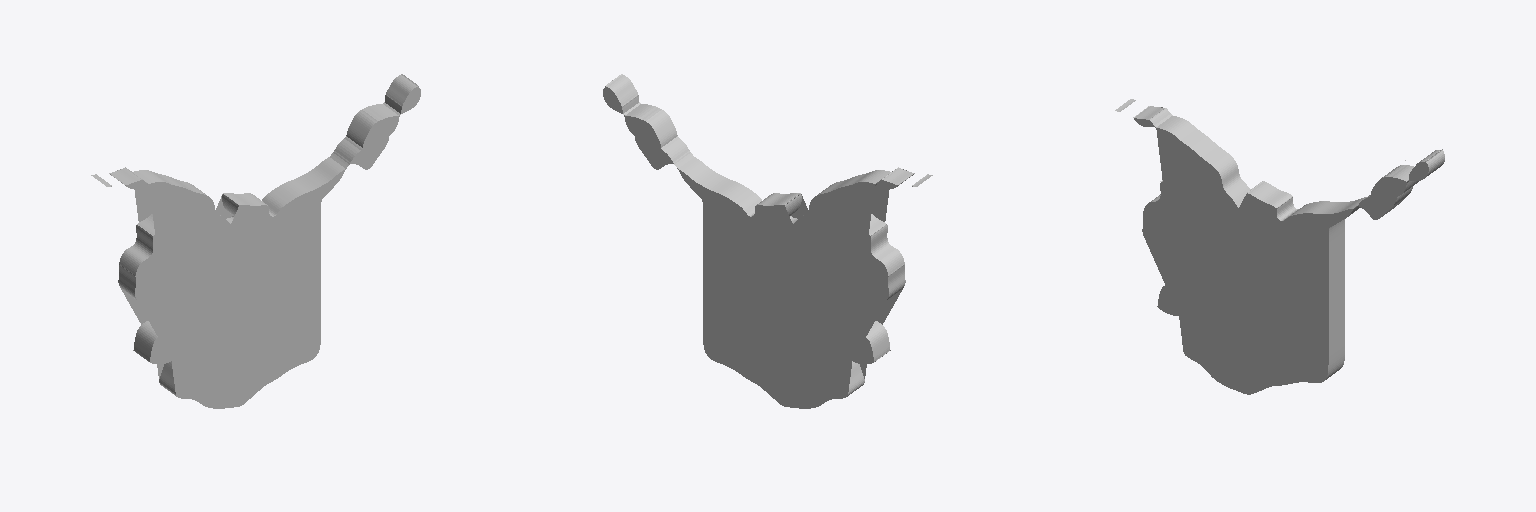
The picture shows the model from 3 angles: view 1: azimuth 30°, elevation 25°; view 2: azimuth 150°, elevation 25°; view 3: azimuth 330°, elevation 25°; orthographic projection.
Visible parts, largest first — view 1: 平面; view 2: 平面; view 3: 平面.
Part boxes in pixels (x1,y1,x2,y2): 平面: (91, 74, 420, 408); 平面: (603, 74, 932, 408); 平面: (1115, 99, 1444, 394).
Size of the model in its own units: 2.2 by 1.85 by 0.2.